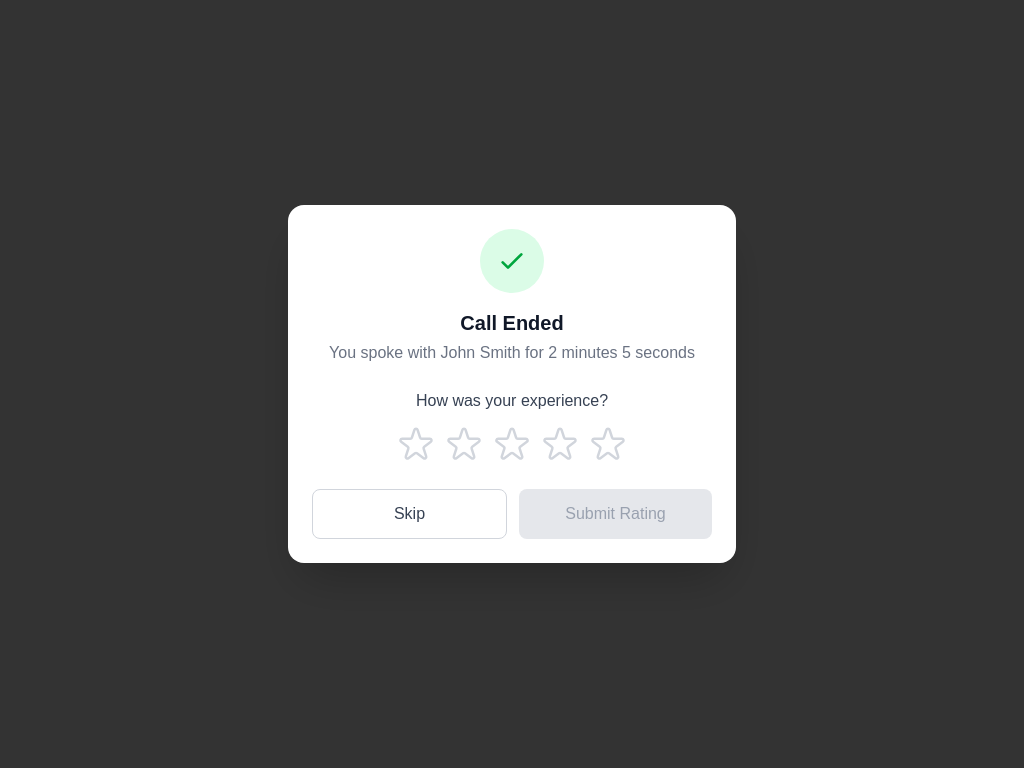
PostCallRating › Comment field › shows comment field after selecting a rating
Click the radio button named "4 stars - Very Good". click: (560, 445)
box: [540, 425, 580, 465]
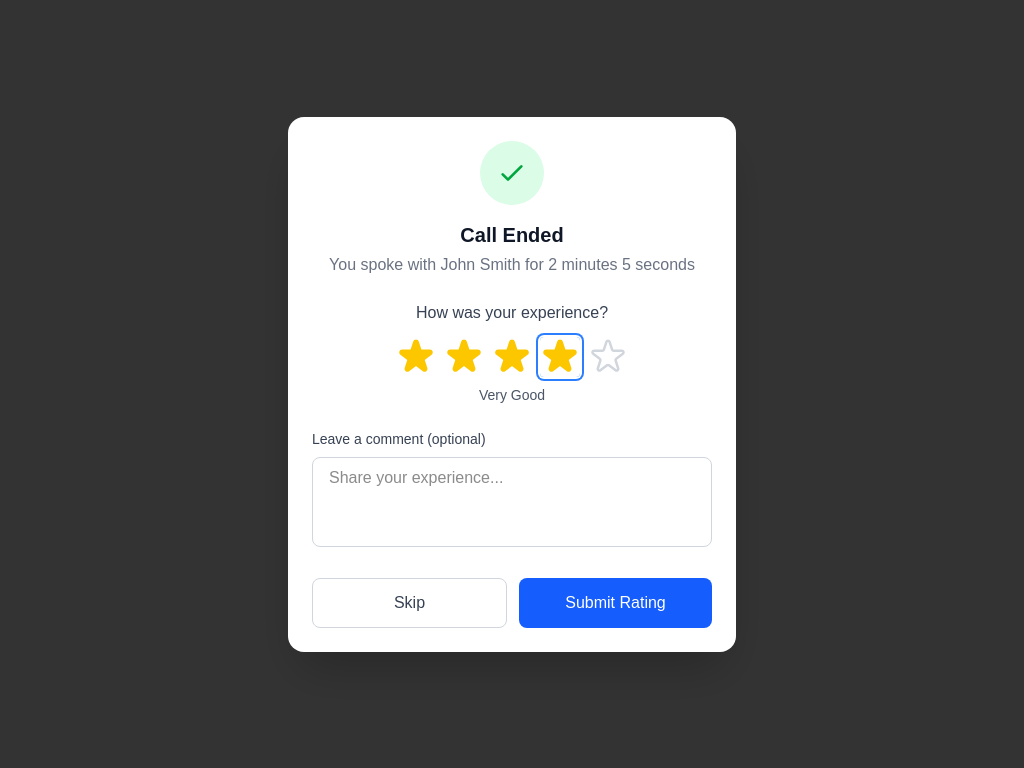
Now the text box with placeholder "Share your experience..." is shown, box [312, 456, 712, 546]
